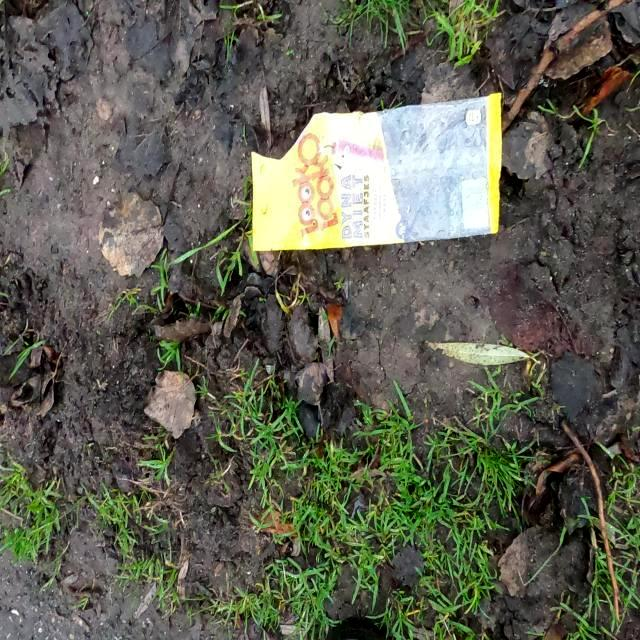Plastic: (248, 89, 504, 255)
